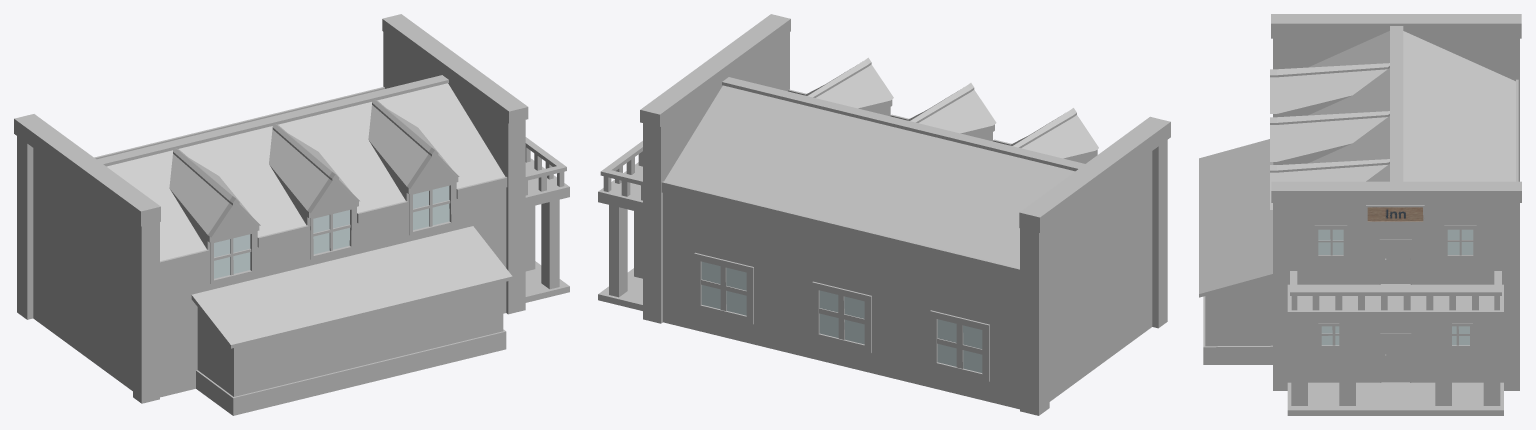
Rendered from inn_model.fbx.
The picture shows the model from 3 angles, left to right: view 1: azimuth 30°, elevation 25°; view 2: azimuth 150°, elevation 25°; view 3: azimuth 270°, elevation 25°; orthographic projection. The views are drawn at different scales.
Parts seen in each view (by area): view 1: InnShape; view 2: InnShape; view 3: InnShape.
Boxes of the visible parts, bbox=[...] form: InnShape: bbox=[14, 14, 569, 415]; InnShape: bbox=[598, 14, 1170, 415]; InnShape: bbox=[1199, 14, 1521, 415].
Bounding box in the file's own units: 228 × 101 × 147.
